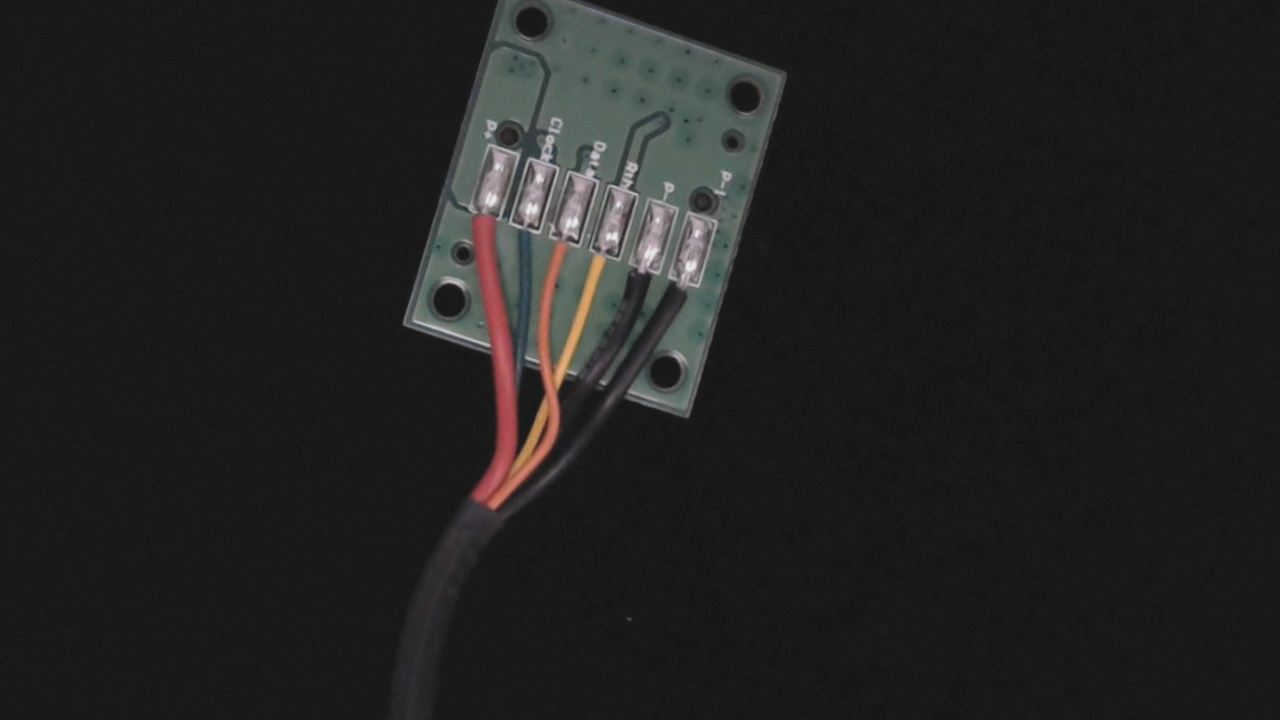Black: (607, 248, 667, 328)
Black1: (650, 261, 708, 344)
Green: (495, 205, 546, 278)
Orange: (532, 221, 585, 296)
Red: (452, 193, 507, 267)
Yellow: (569, 234, 626, 315)
